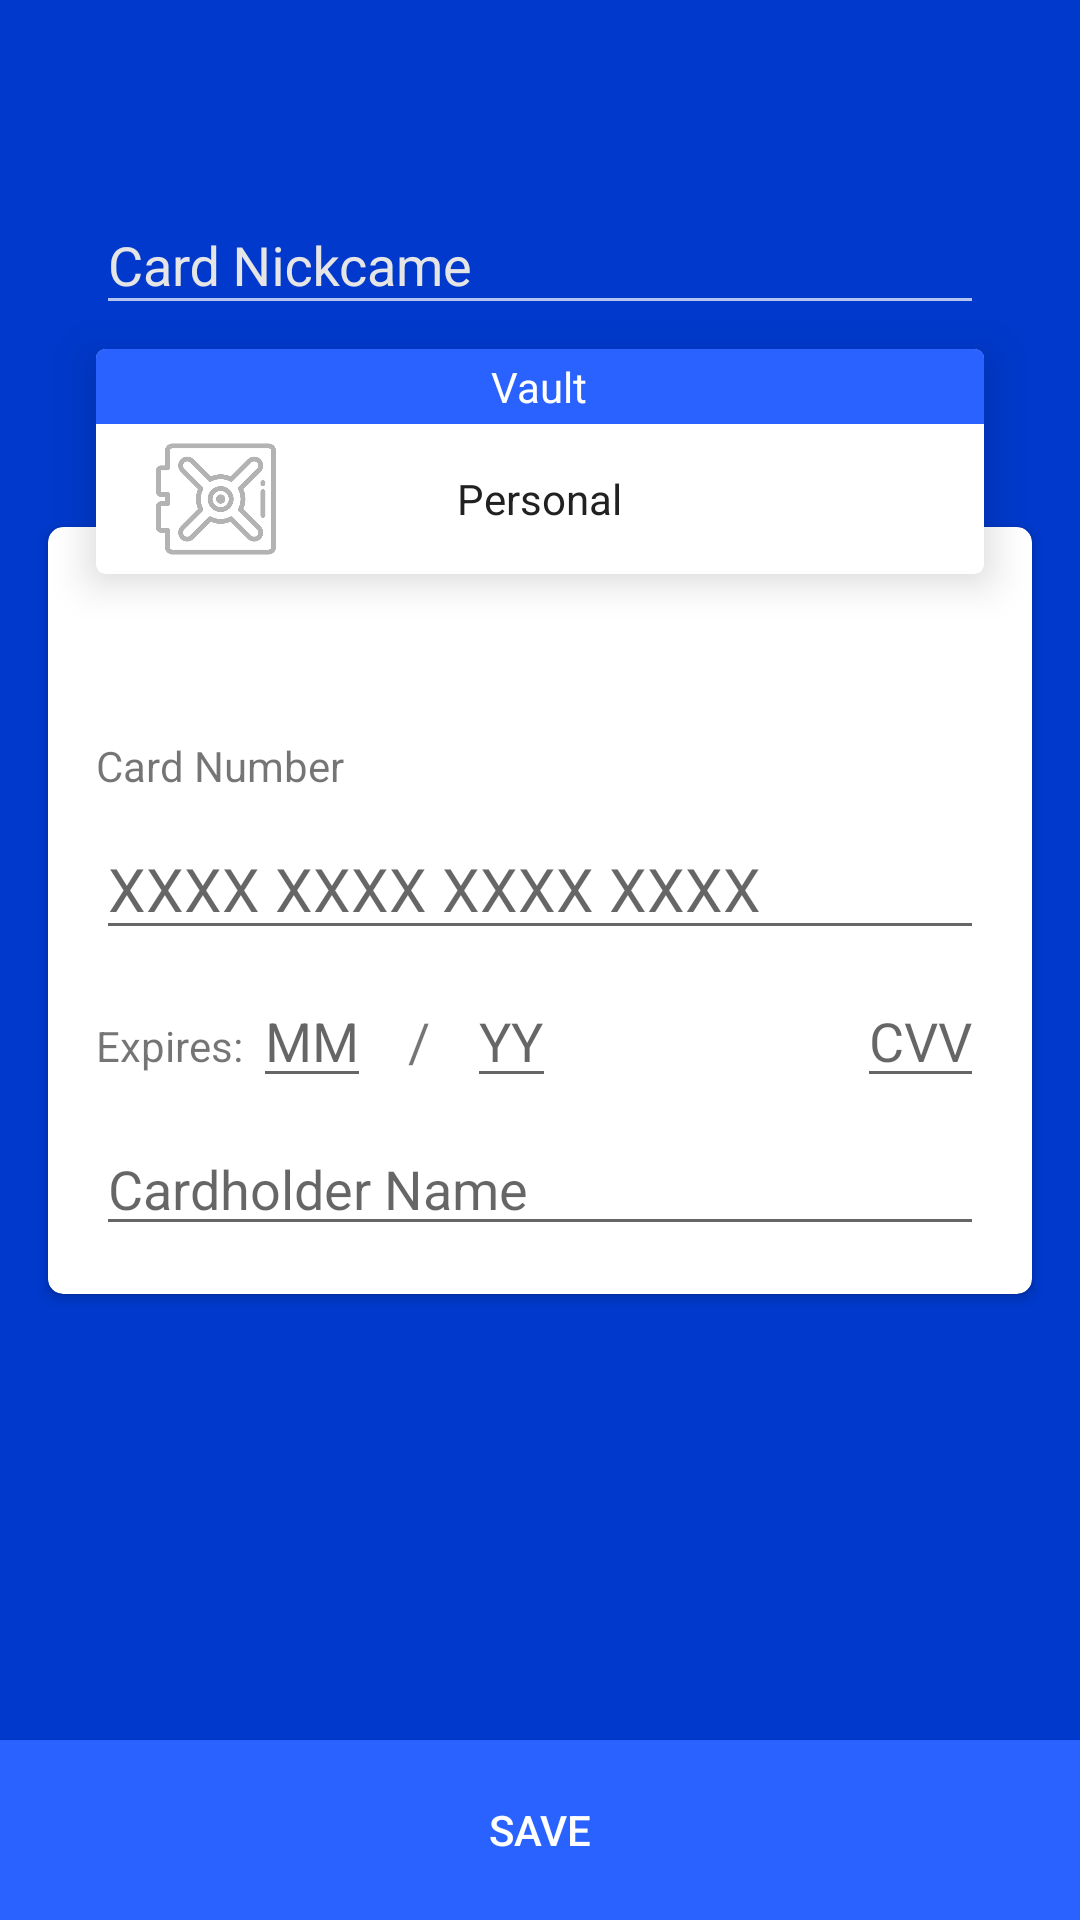

Icon click points for this 1080 × 1920 phone screenshot, format point (x, y):
vault: point (216, 499)
